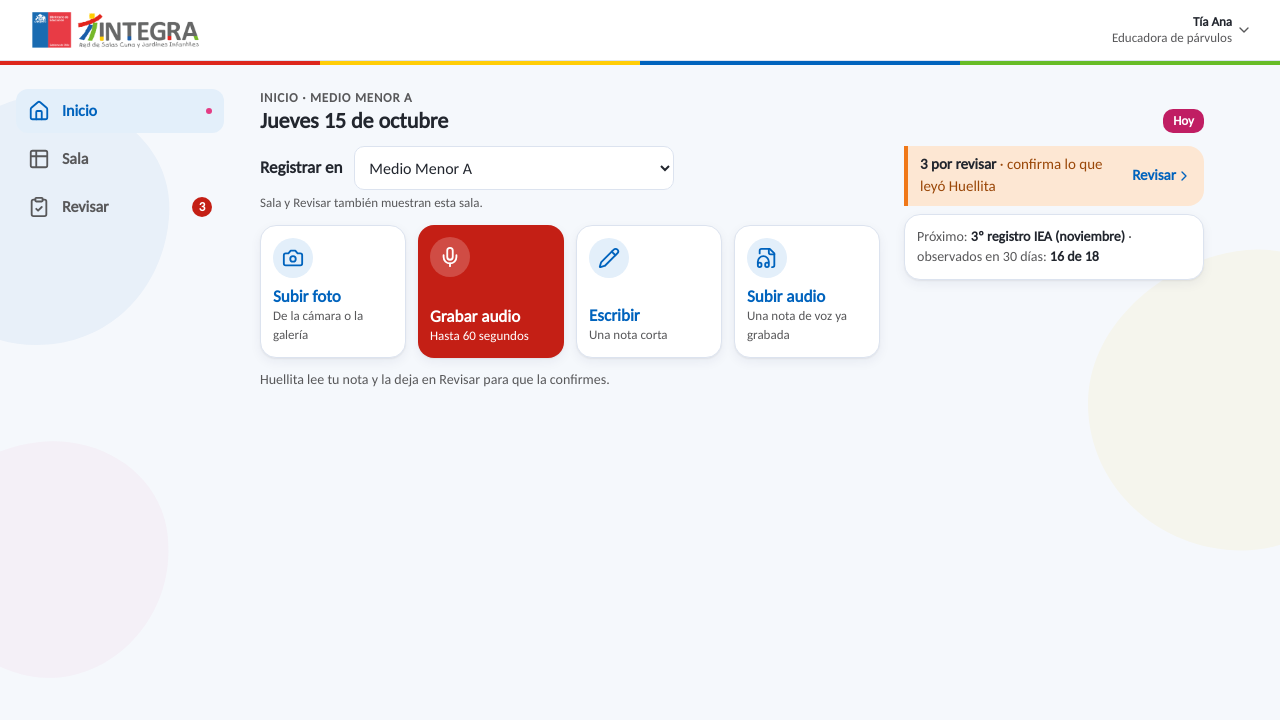
it: Inicio › el selector cambia la sala donde queda el registro
The image size is (1280, 720).
Select "Medio Menor B" in the dropdown with id "sala-registro" at {"x": 514, "y": 168}, box [354,146,674,190]
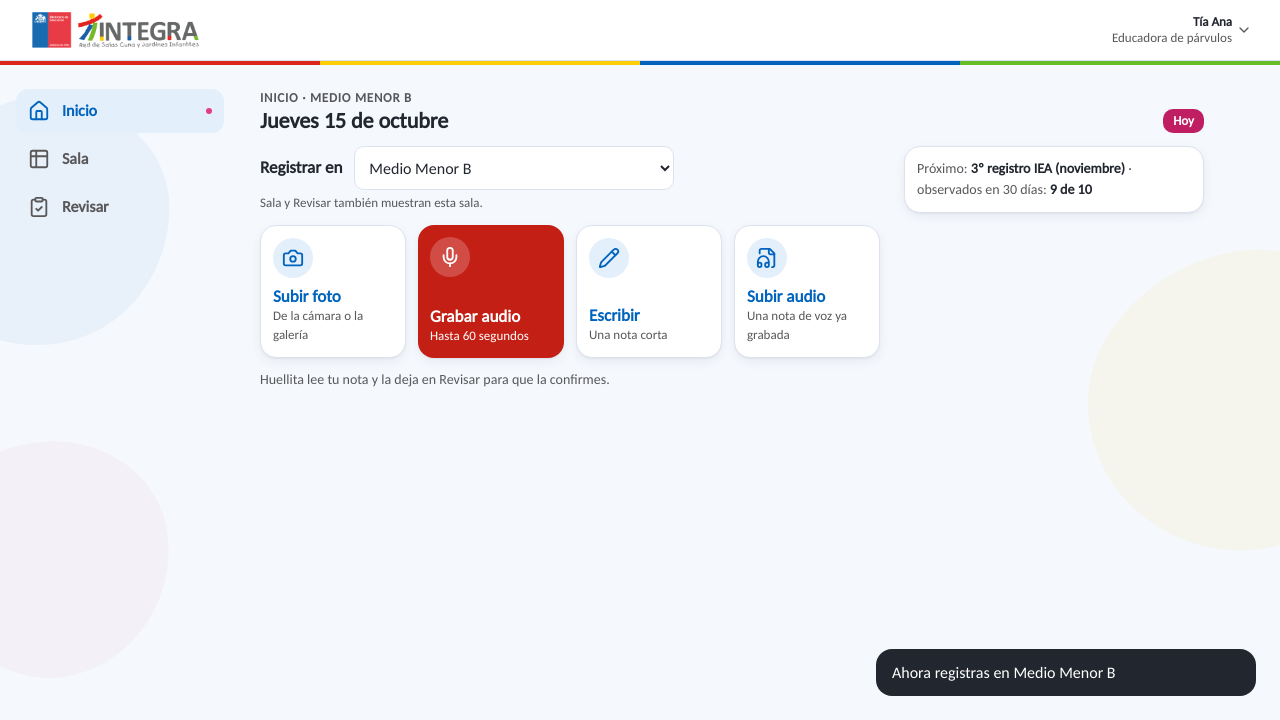
Check: the text "Inicio · Medio Menor B" is shown, box [260,90,412,105]
Check: the text "Ahora registras en Medio Menor B" is shown, box [892,661,1116,684]
